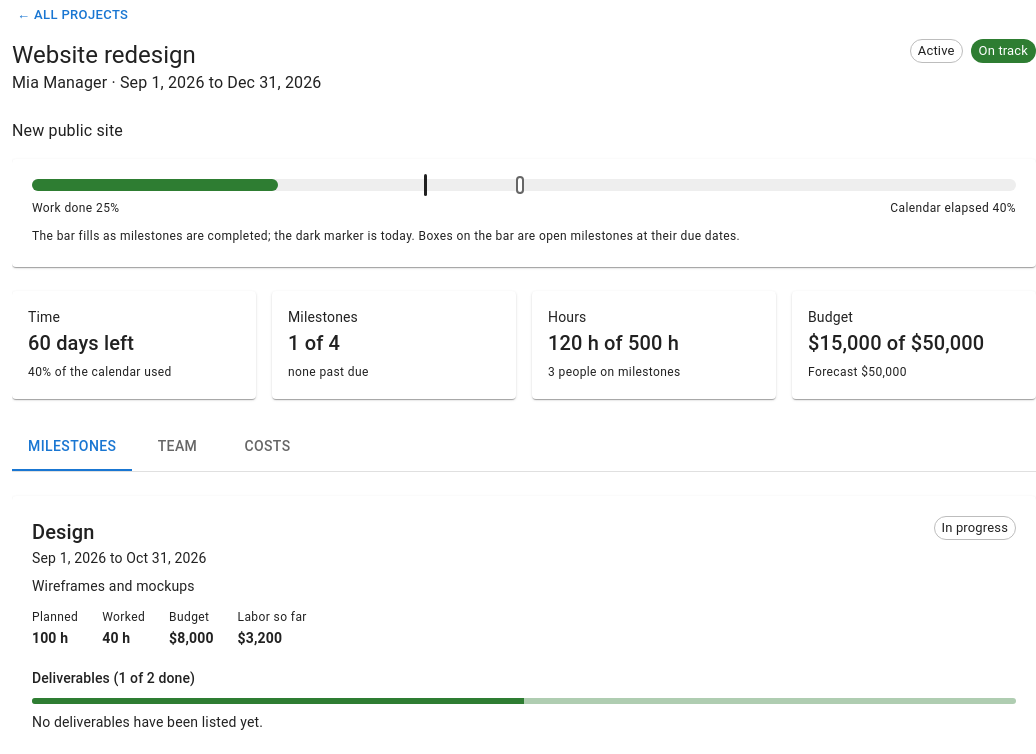
Scenario: Project detail: what everyone sees › says nobody is assigned when the team is empty
The width and height of the screenshot is (1036, 754).
Click the tab "Team" at coordinates (178, 447), box x1=132 y1=423 x2=222 y2=471
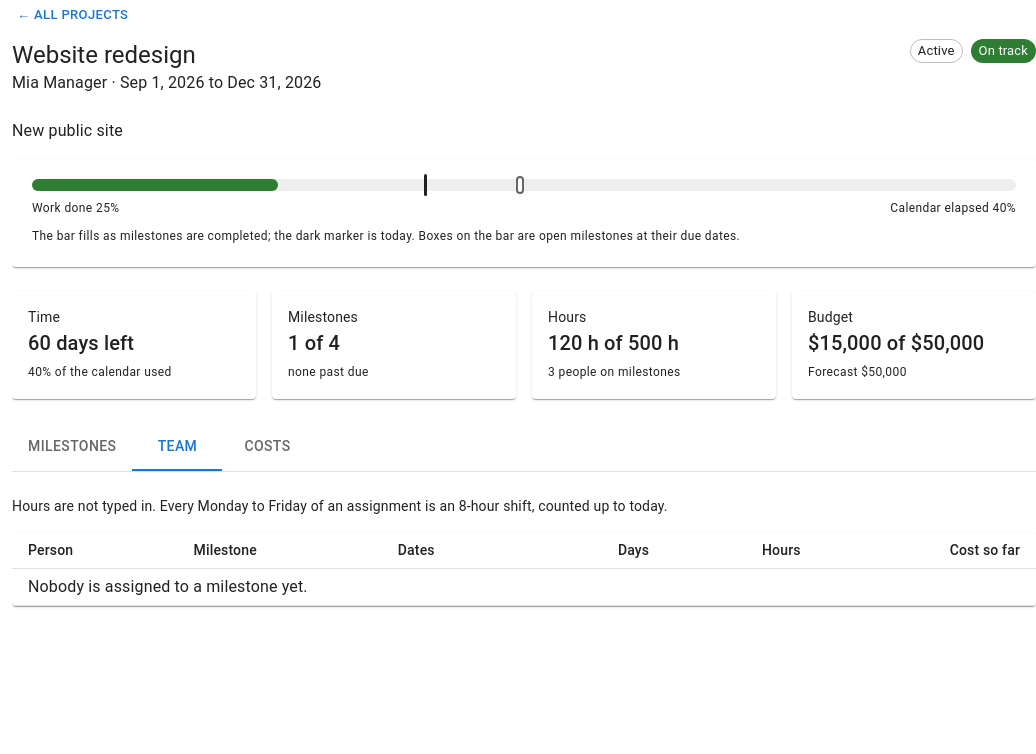
Check: the text "Nobody is assigned to a milestone yet." is shown, box x1=28 y1=577 x2=308 y2=596
